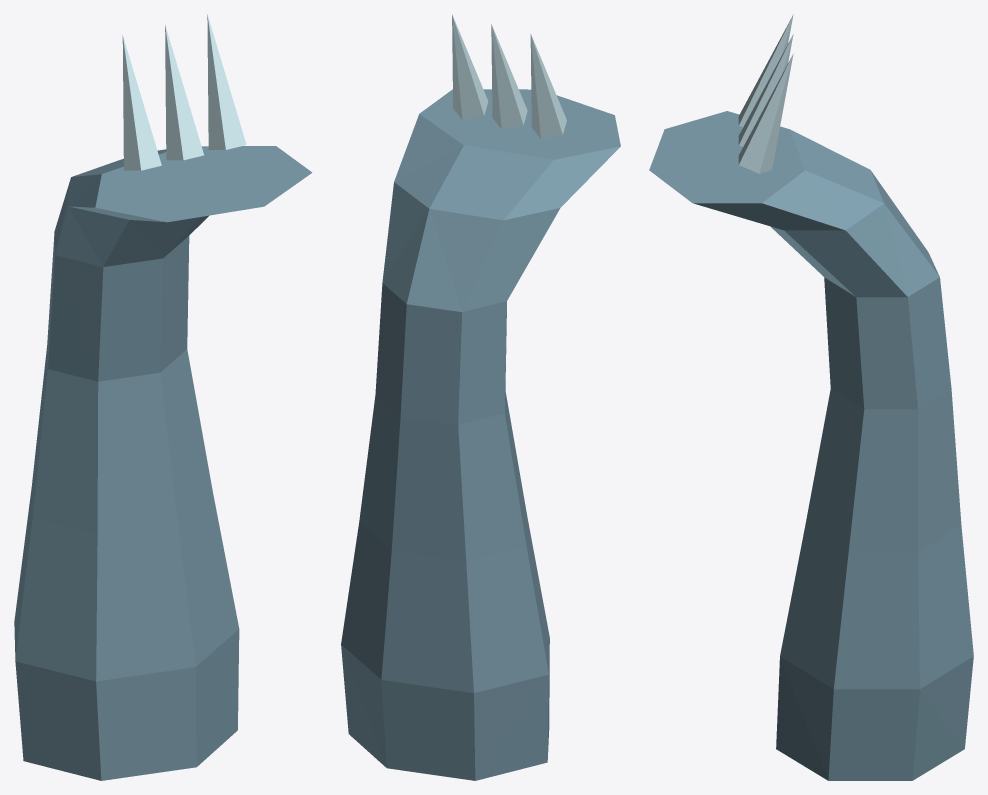
The model's file is frost_predator_foreleg.glb.
3 views of the same model, side by side, from view 1: azimuth 30°, elevation 25°; view 2: azimuth 150°, elevation 25°; view 3: azimuth 270°, elevation 25° (orthographic). The views are drawn at different scales.
Parts seen in each view (by area): view 1: frost_predator_foreleg; view 2: frost_predator_foreleg; view 3: frost_predator_foreleg.
Boxes of the visible parts, box(x1,y1,x2,y2) form: frost_predator_foreleg: box(14, 14, 312, 780); frost_predator_foreleg: box(341, 14, 620, 780); frost_predator_foreleg: box(649, 14, 973, 780).
Size of the model in its own units: 0.3422 by 1.21 by 0.503.
